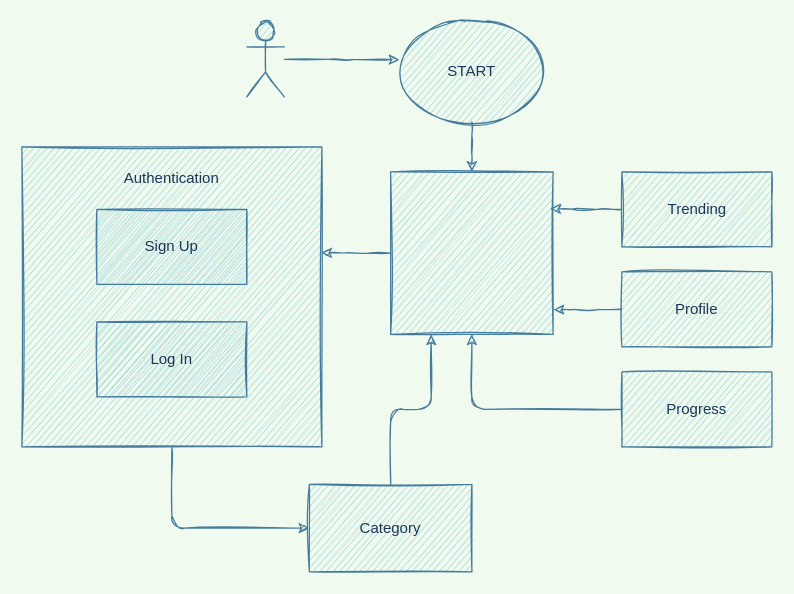
Some shapes in this 794 by 594 pixel diagram are drawn without their labels. The centre of each missing label's shape, as x and y in pixels:
"Actor" goes at (x=265, y=59).
"Home Feed" goes at (x=471, y=252).
